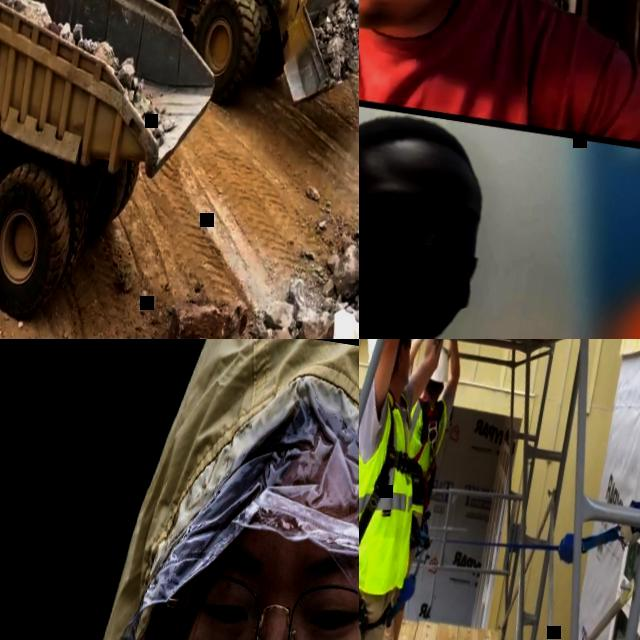helmet: (363, 339, 414, 372), (428, 346, 452, 383)
machinery: (0, 0, 241, 339), (89, 0, 359, 135)
no_helmet: (156, 339, 359, 577), (359, 102, 497, 194)
no_mask: (359, 225, 486, 339), (359, 0, 449, 43), (394, 340, 415, 386)
no_vest: (359, 0, 612, 133)
person: (0, 339, 359, 640), (359, 72, 634, 339), (359, 0, 640, 155), (359, 339, 471, 640), (359, 339, 461, 640)
vest: (359, 383, 435, 597), (394, 389, 450, 513)
